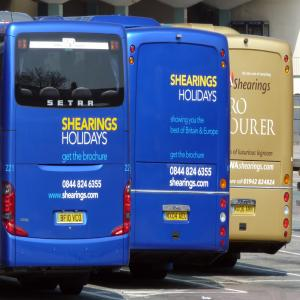Vehicle-registration-plate: (165, 213, 189, 223), (58, 215, 84, 224), (233, 205, 255, 215)
